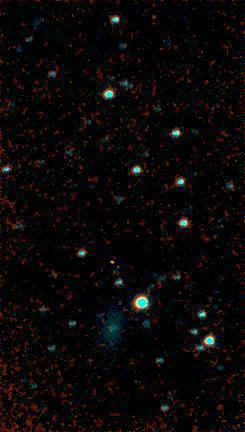star: (93, 249, 123, 279)
